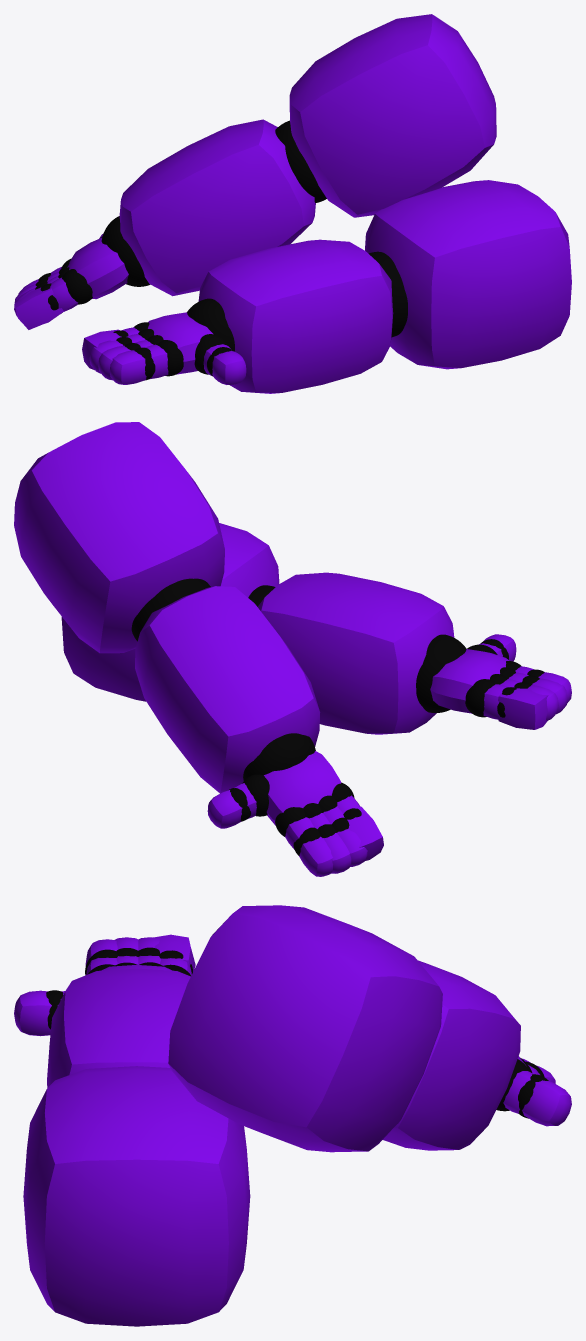
The model's file is Arm.fbx.
The picture shows the model from 3 angles, top to bottom: view 1: azimuth 30°, elevation 25°; view 2: azimuth 150°, elevation 25°; view 3: azimuth 270°, elevation 25°; orthographic projection. The views are drawn at different scales.
Parts seen in each view (by area): view 1: robot_UpperArm.001; view 2: robot_UpperArm.001; view 3: robot_UpperArm.001.
Boxes of the visible parts, <box> form: robot_UpperArm.001: <box>14,14,571,393</box>; robot_UpperArm.001: <box>14,422,571,876</box>; robot_UpperArm.001: <box>14,905,571,1326</box>.
Bounding box in the file's own units: 1.33 × 0.7907 × 1.03.
